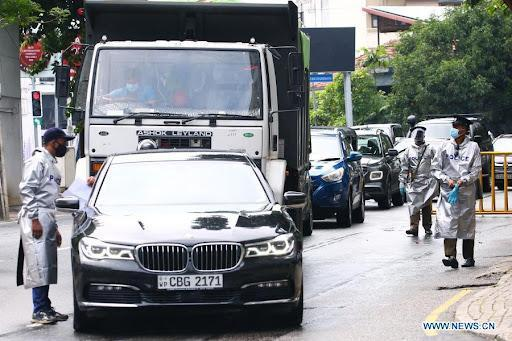license-plate: (156, 274, 223, 288)
